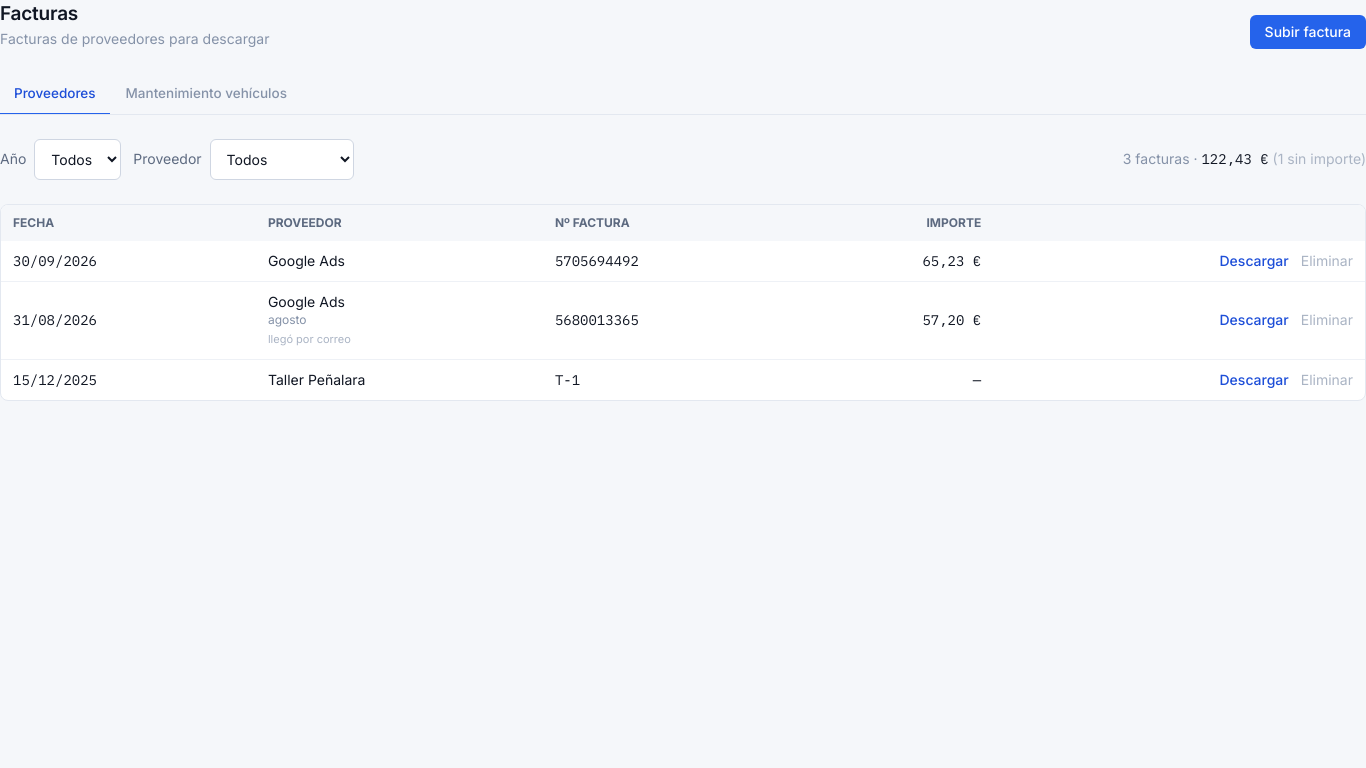
Test: Facturas › elimina tras confirmar
Expected: the text "5705694492" is shown, x1=543 y1=241 x2=798 y2=281
Click the button with aria-label "Eliminar la factura 5705694492" at (1327, 261), box x1=1301 y1=251 x2=1353 y2=271
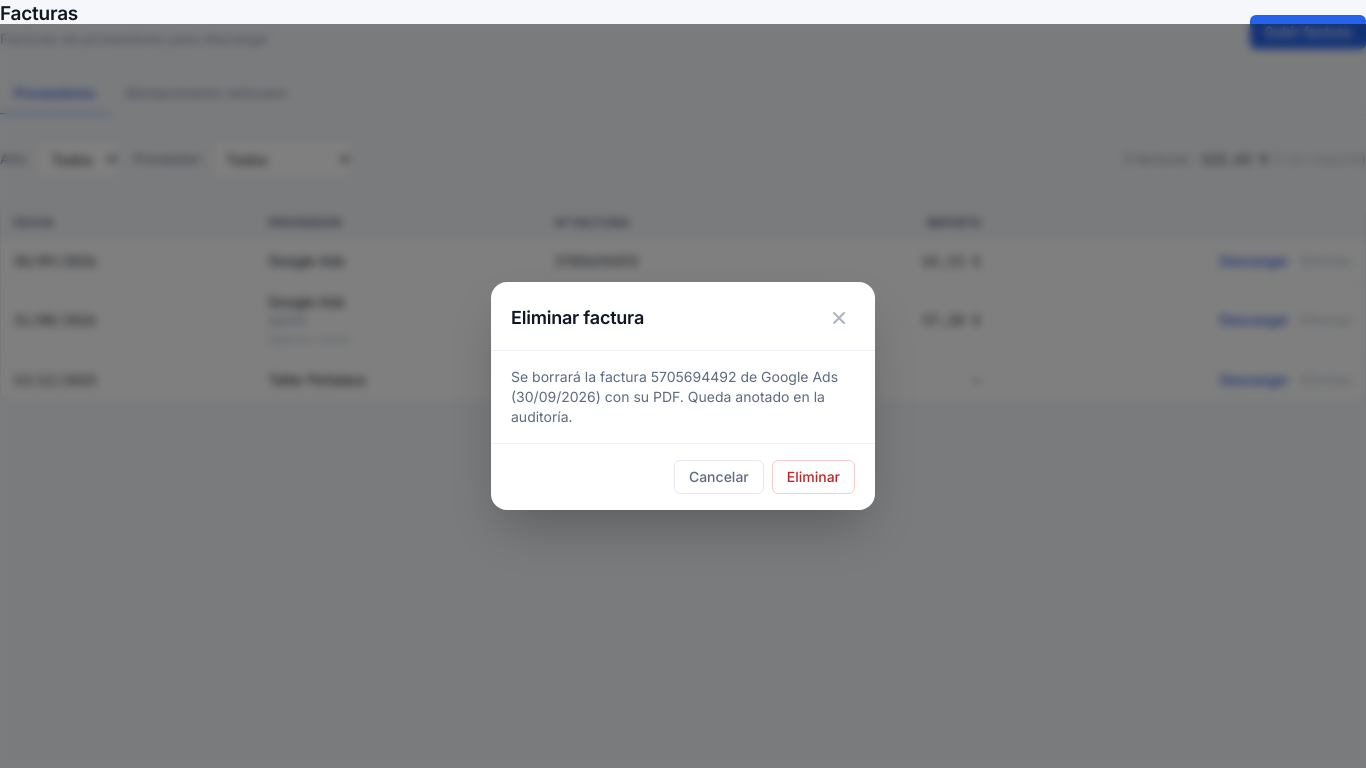
Click the button "Eliminar" at (813, 477), box x1=772 y1=460 x2=855 y2=494
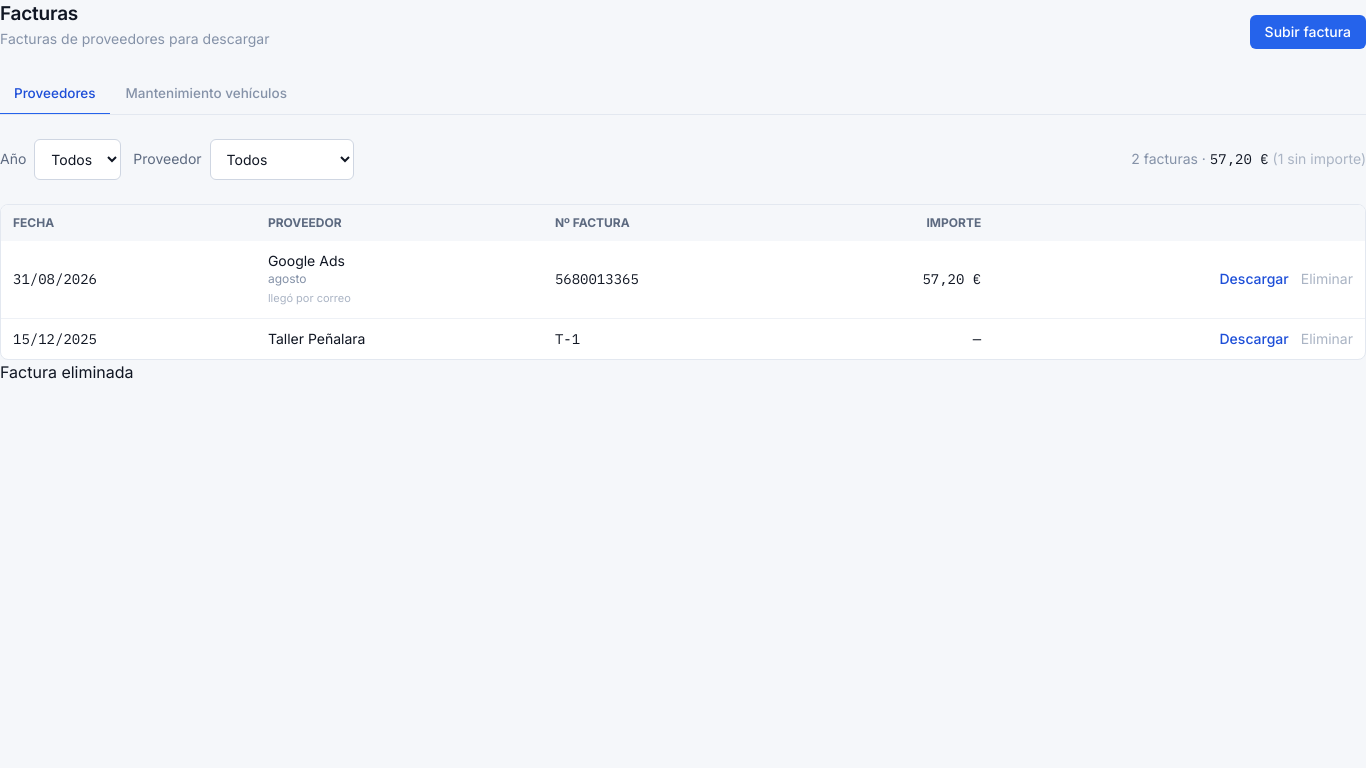
Result: the text "5705694492" is gone
